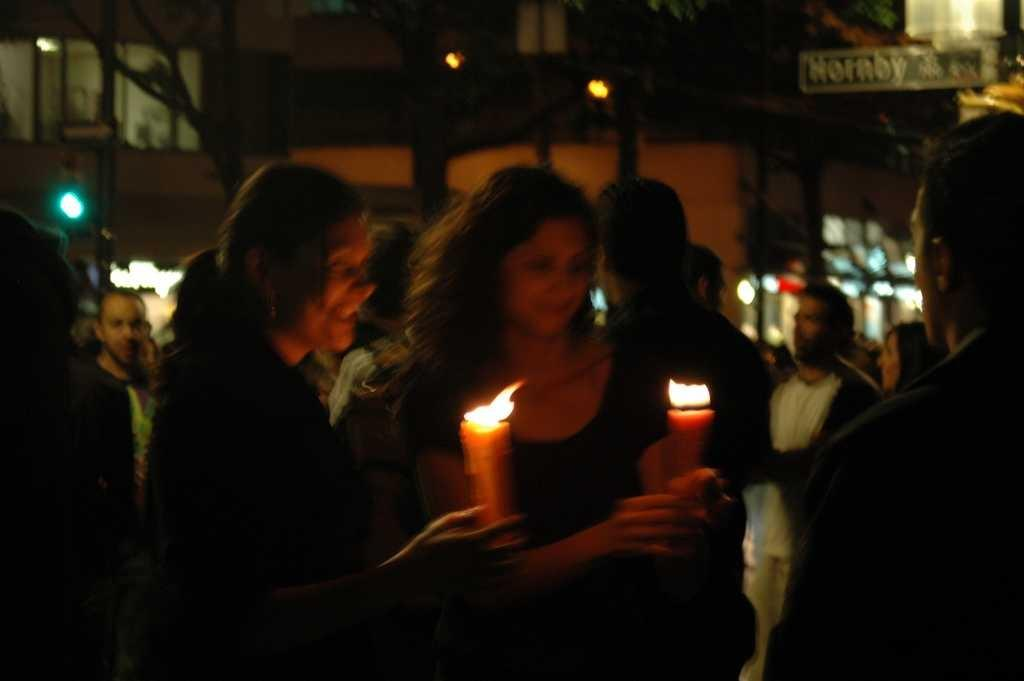fire: (454, 378, 533, 433), (656, 363, 728, 417)
